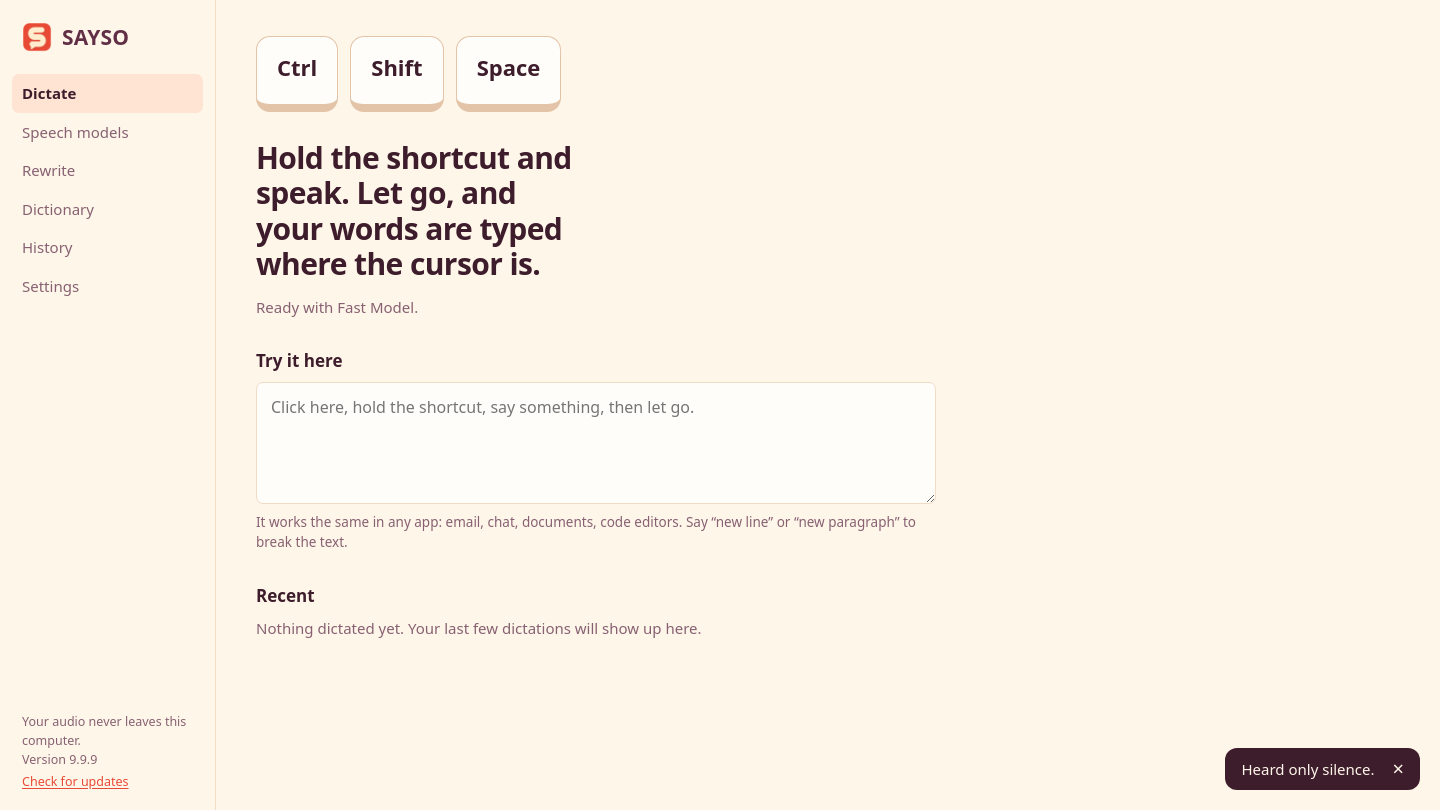
Test: dictate screen › shows an error from the engine as a notice
Expected: the navigation bar is shown, [0, 0, 216, 809]
Expected: the message shows "Heard only silence.", [1241, 758, 1374, 778]
Click the button named "Dismiss". click: (1398, 769)
box: [1386, 758, 1410, 780]
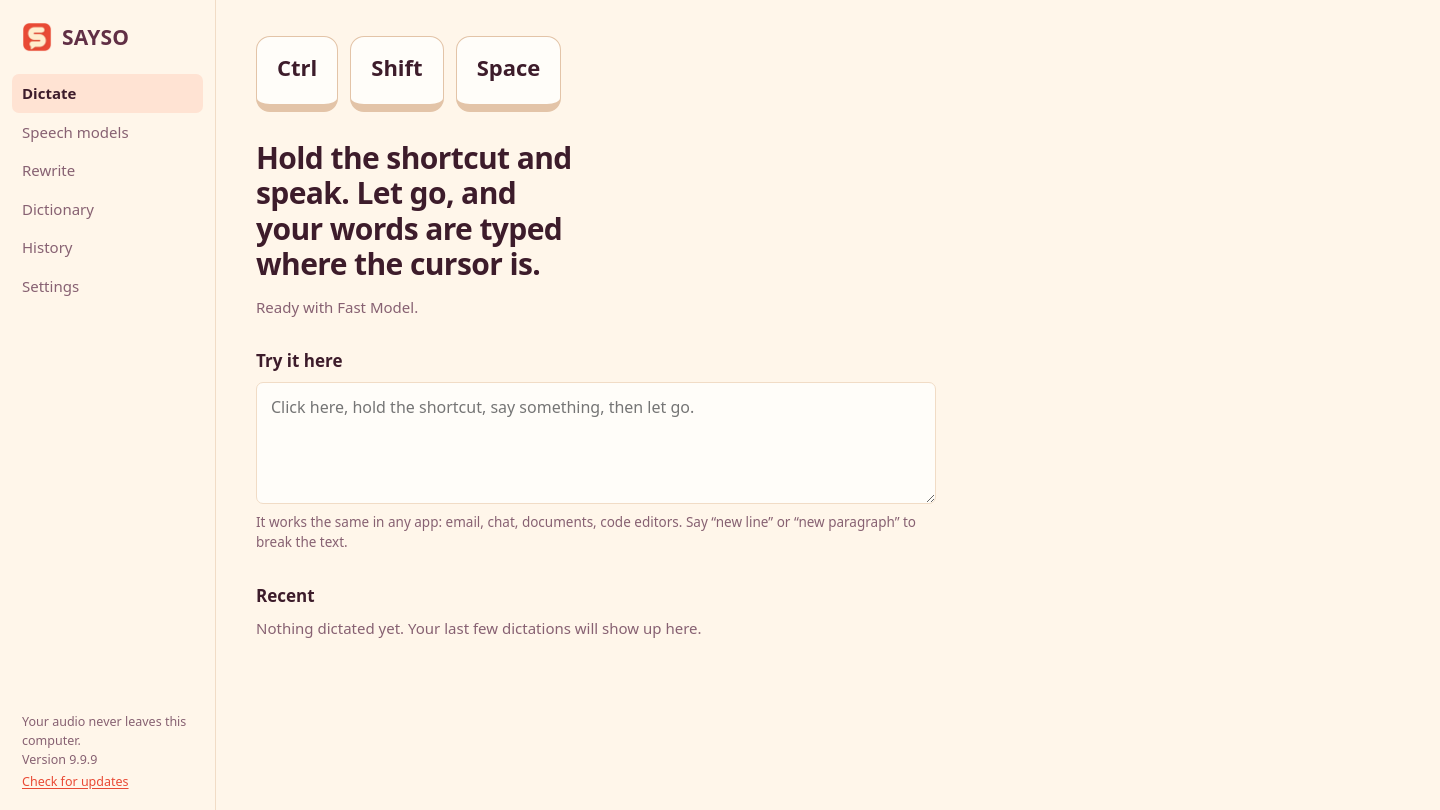
Now the message "Heard only silence. ×" is gone
